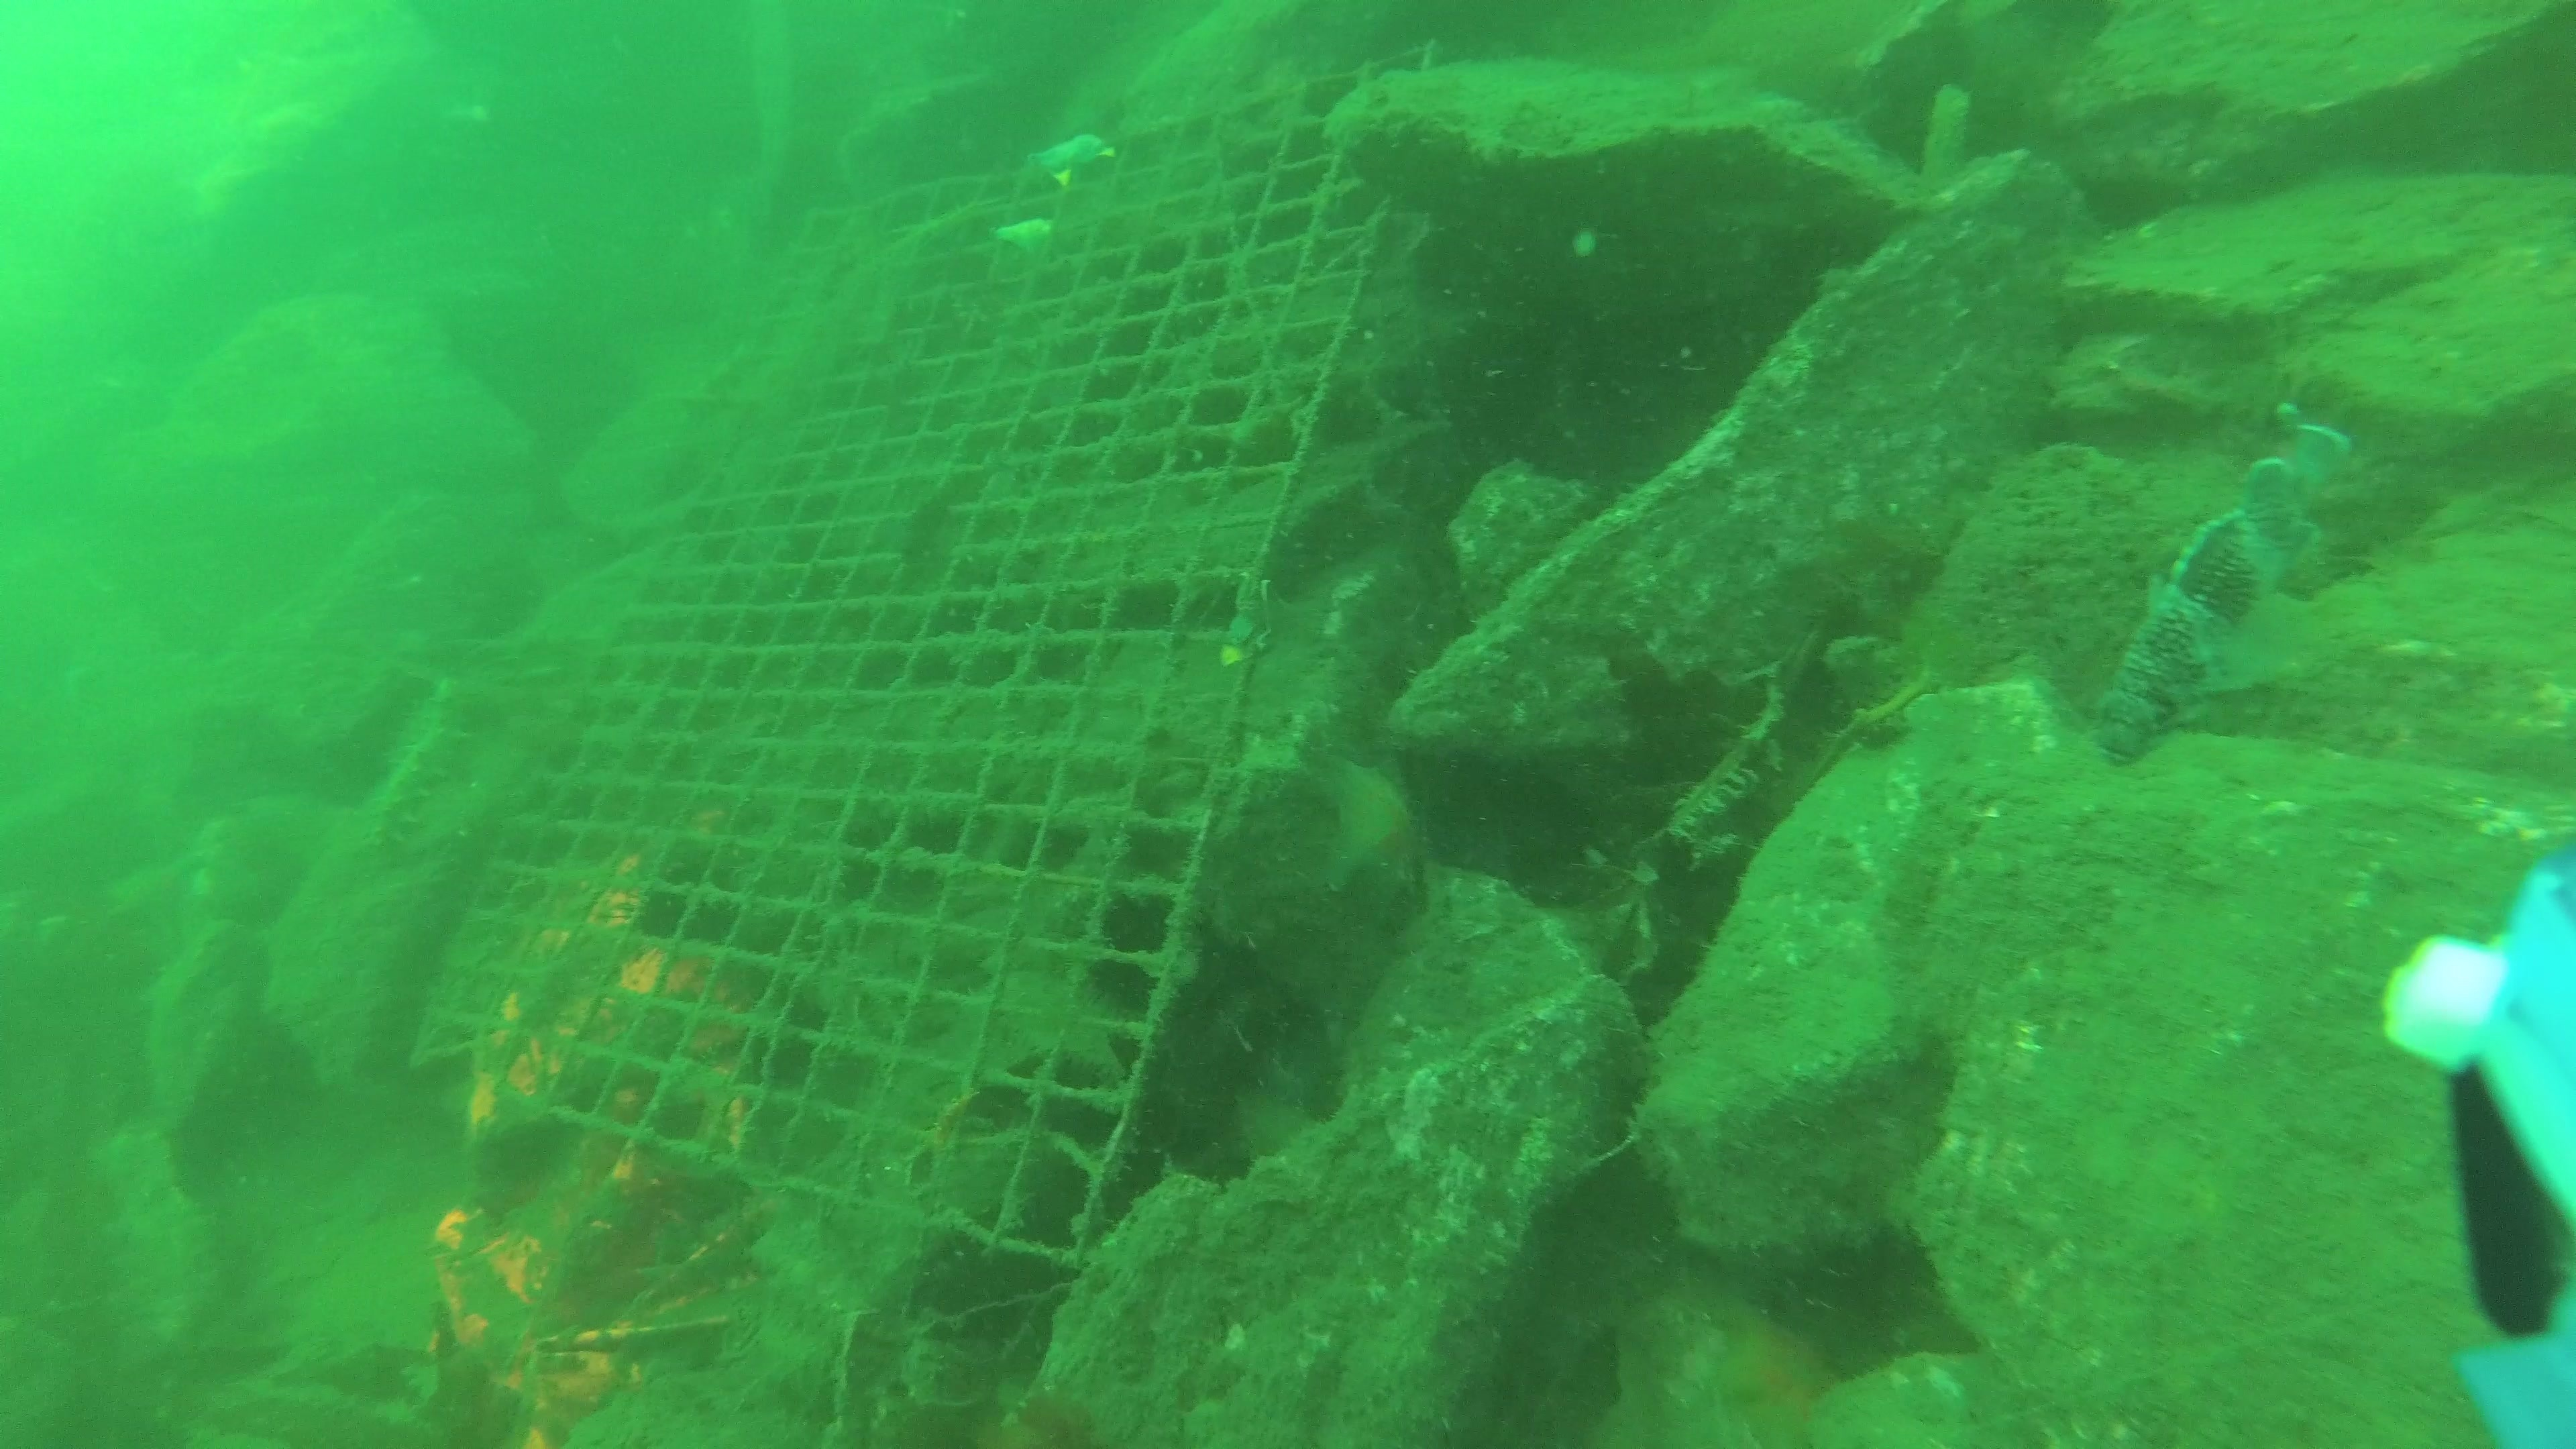echinus: (640, 860, 740, 948)
holothurian: (372, 663, 481, 860)
starfish: (1323, 761, 1422, 906)
